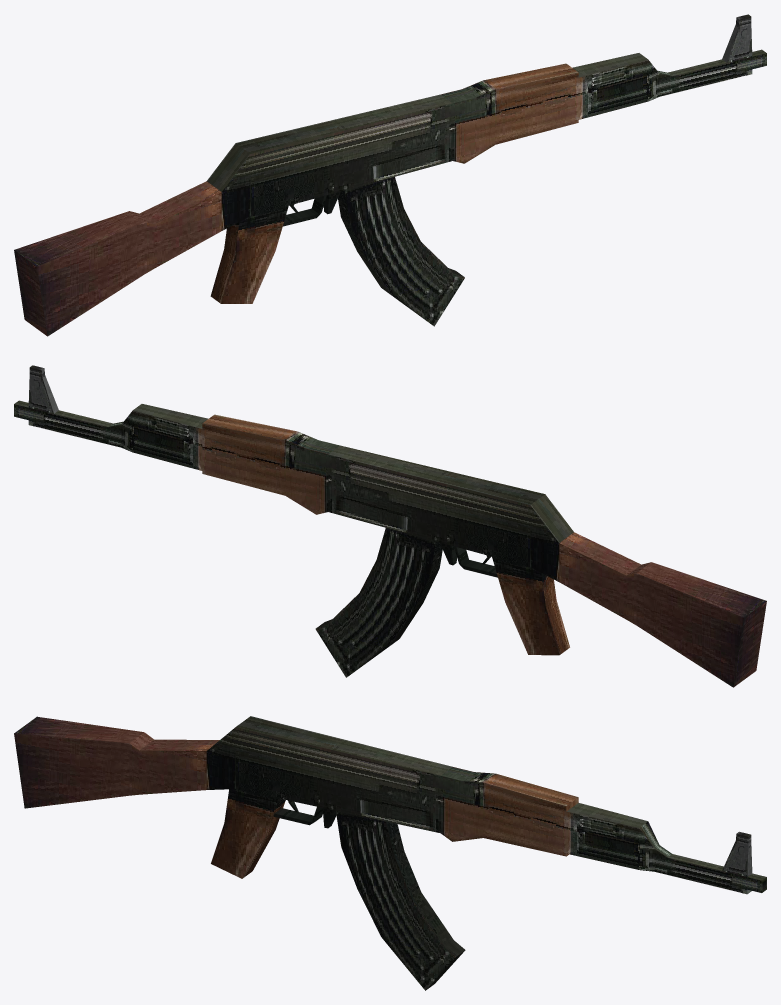
Rendered from Assault_Rifle_Simple.glb.
The picture shows the model from 3 angles, top to bottom: view 1: azimuth 30°, elevation 25°; view 2: azimuth 150°, elevation 25°; view 3: azimuth 330°, elevation 25°; orthographic projection.
Parts seen in each view (by area): view 1: Assault_Rifle_Simple; view 2: Assault_Rifle_Simple; view 3: Assault_Rifle_Simple.
Boxes of the visible parts, x1,y1,x2,y2 form: Assault_Rifle_Simple: (14,14,766,336); Assault_Rifle_Simple: (14,365,766,687); Assault_Rifle_Simple: (14,716,766,990).
Size of the model in its own units: 0.9197 by 0.2735 by 0.0495.
1 material, 1 textured.
